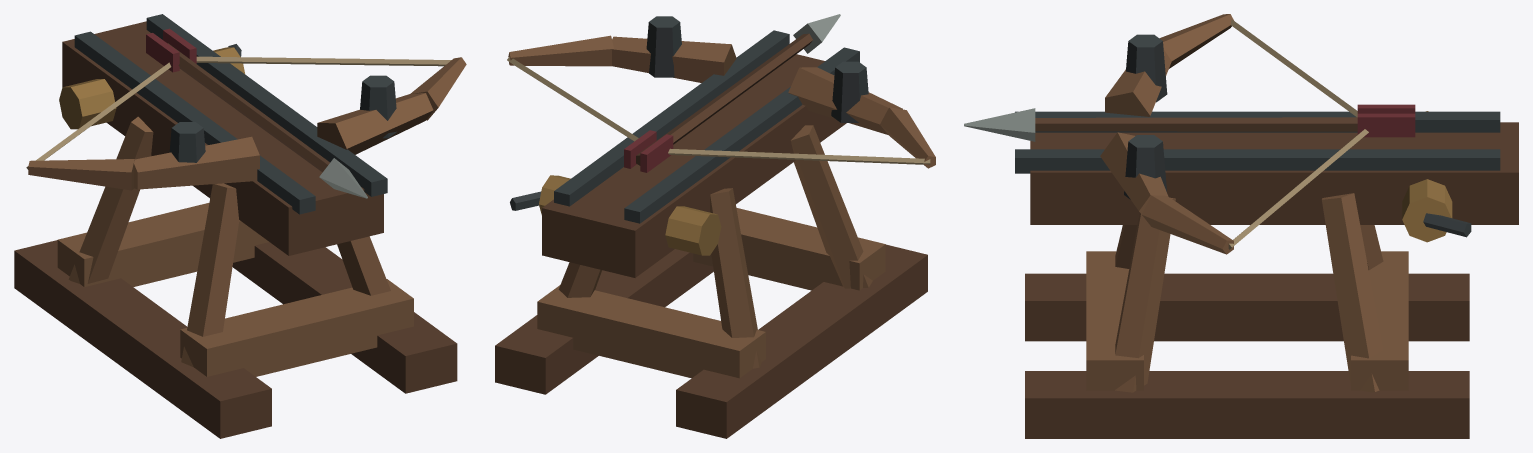
Rendered from watch-ballista.glb.
The picture shows the model from 3 angles, left to right: view 1: azimuth 30°, elevation 25°; view 2: azimuth 150°, elevation 25°; view 3: azimuth 270°, elevation 25°; orthographic projection. The views are drawn at different scales.
Parts seen in each view (by area): view 1: Watch ballista; view 2: Watch ballista; view 3: Watch ballista.
Boxes of the visible parts, x1,y1,x2,y2 form: Watch ballista: (14,14,466,438); Watch ballista: (495,14,935,438); Watch ballista: (964,14,1518,438).
Size of the model in its own units: 1.61 by 0.928 by 1.63.
